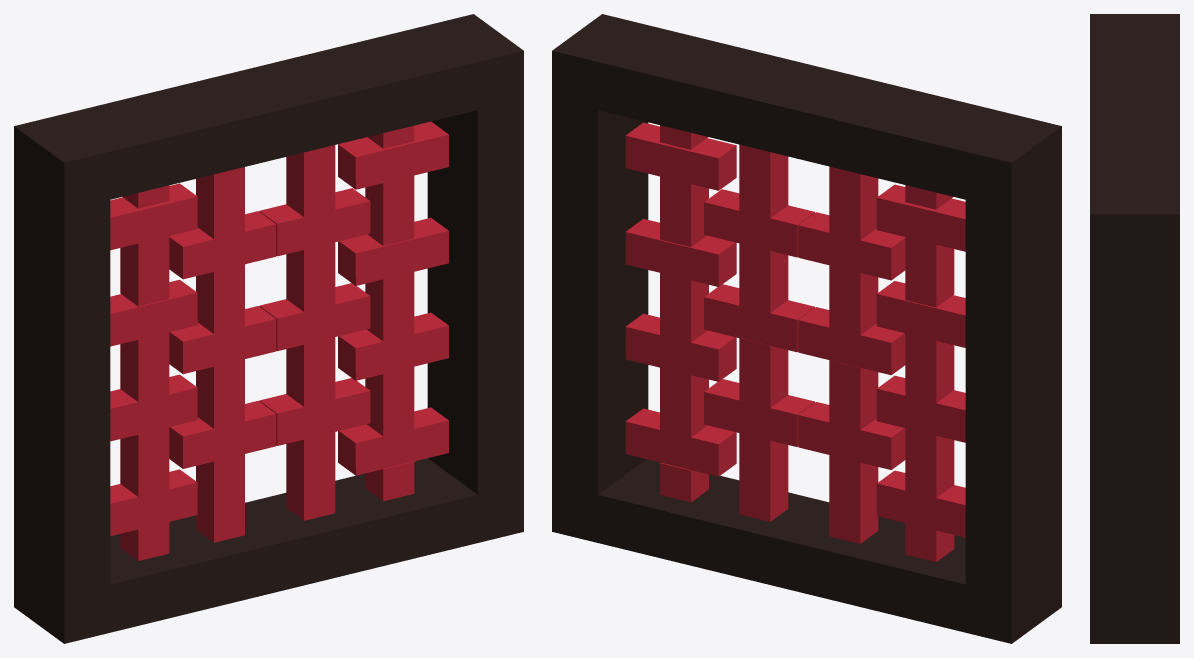
The model's file is KINETIKA_MURS_DESTRUCTIBLE_5.FBX.
3 views of the same model, side by side, from view 1: azimuth 30°, elevation 25°; view 2: azimuth 150°, elevation 25°; view 3: azimuth 270°, elevation 25° (orthographic). The views are drawn at different scales.
Parts seen in each view (by area): view 1: Wall5, Box282, Box281, Box279, Box283, Box266, Box270, Box264, Box277, Box273, Box271, Box286 (+19 smaller); view 2: Wall5, Box282, Box281, Box279, Box283, Box266, Box264, Box270, Box273, Box271, Box277, Box286 (+21 smaller); view 3: Wall5.
Part boxes in pixels (left/top/right/bottom): Wall5: left=14, top=14, right=523, bottom=643; Box282: left=338, top=121, right=448, bottom=189; Box281: left=338, top=217, right=448, bottom=285; Box279: left=338, top=407, right=448, bottom=475; Box283: left=338, top=312, right=448, bottom=380; Box266: left=169, top=211, right=276, bottom=279; Box270: left=169, top=306, right=276, bottom=374; Box264: left=169, top=401, right=276, bottom=468; Box277: left=259, top=283, right=370, bottom=351; Box273: left=259, top=188, right=370, bottom=256; Box271: left=259, top=378, right=370, bottom=445; Box286: left=286, top=431, right=335, bottom=520; Wall5: left=552, top=14, right=1061, bottom=643; Box282: left=625, top=122, right=736, bottom=190; Box281: left=625, top=219, right=736, bottom=286; Box279: left=625, top=408, right=736, bottom=476; Box283: left=625, top=313, right=736, bottom=381; Box266: left=798, top=212, right=905, bottom=280; Box264: left=798, top=402, right=905, bottom=469; Box270: left=798, top=307, right=905, bottom=375; Box273: left=704, top=189, right=814, bottom=257; Box271: left=704, top=379, right=814, bottom=446; Box277: left=704, top=284, right=814, bottom=352; Box286: left=739, top=433, right=788, bottom=521; Wall5: left=1090, top=14, right=1179, bottom=643.
Bounding box in the file's own units: 29.6 × 29.6 × 5.6.
